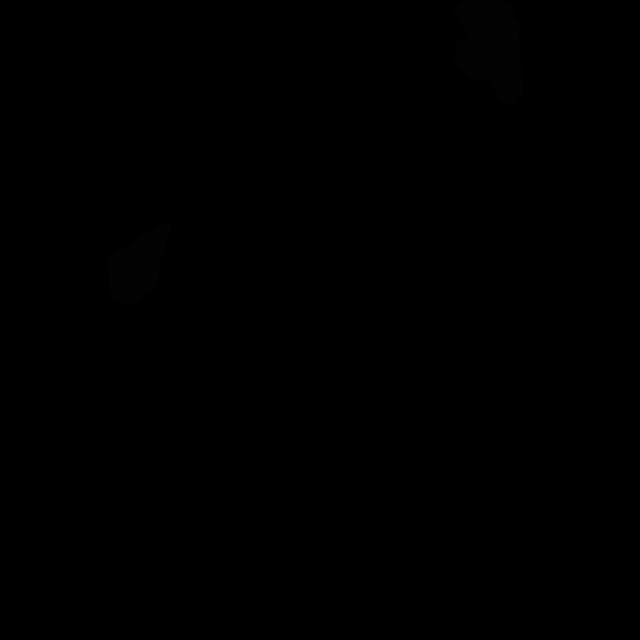cardboard: (453, 0, 522, 107), (107, 221, 172, 306)
